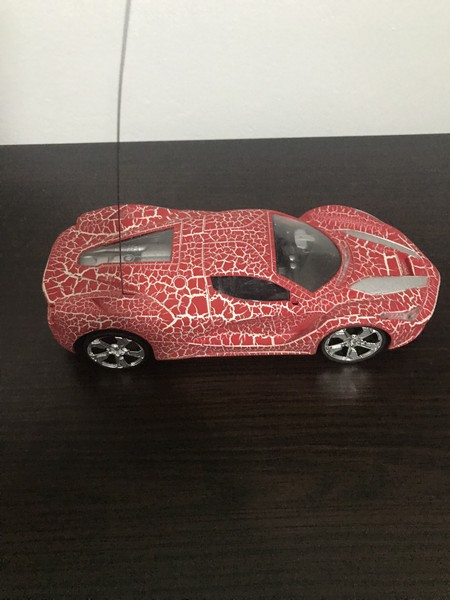RC: (42, 200, 442, 373)
